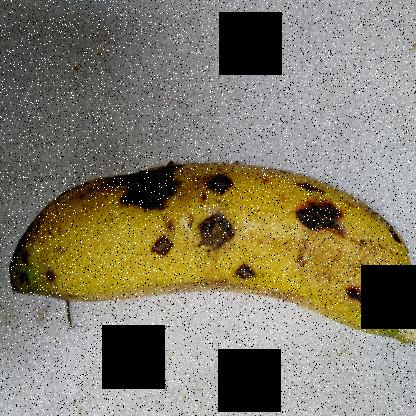rotten: (282, 140, 350, 247), (115, 155, 183, 227), (214, 228, 266, 298), (331, 274, 386, 336), (190, 204, 233, 267), (144, 228, 182, 286), (196, 158, 252, 196)
